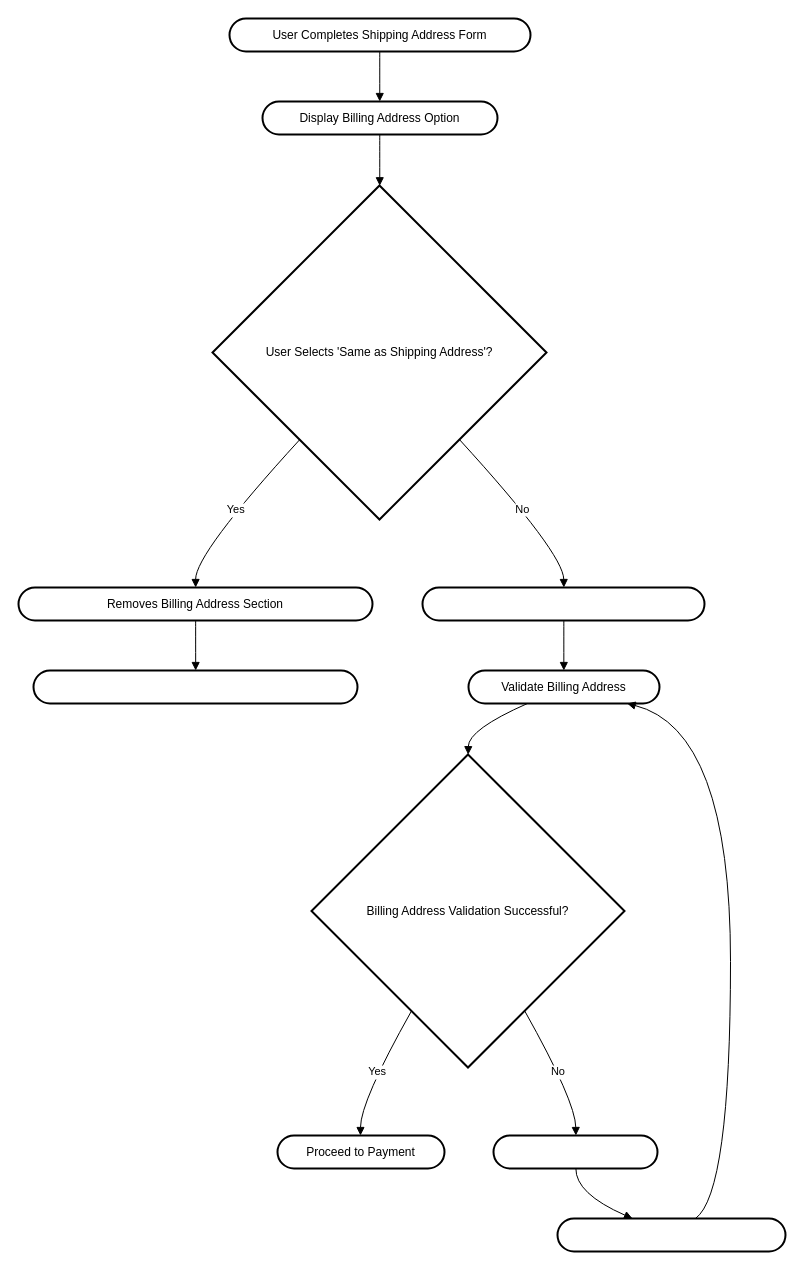
Image size: 803x1269. Some labels were removed from this diagram. Here are the shapes that lost their labels. From the top down, the centre of each, then its label:
At (563,603): "User Enters Billing Address Manually".
At (195,686): "User Reviews and Confirms Shipping Address".
At (575,1151): "Show Error Message".
At (671,1234): "User Corrects Billing Address".
